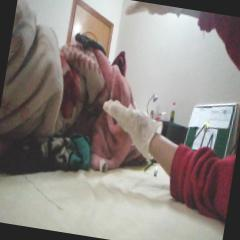gloved: (98, 97, 163, 149), (123, 0, 183, 27)
